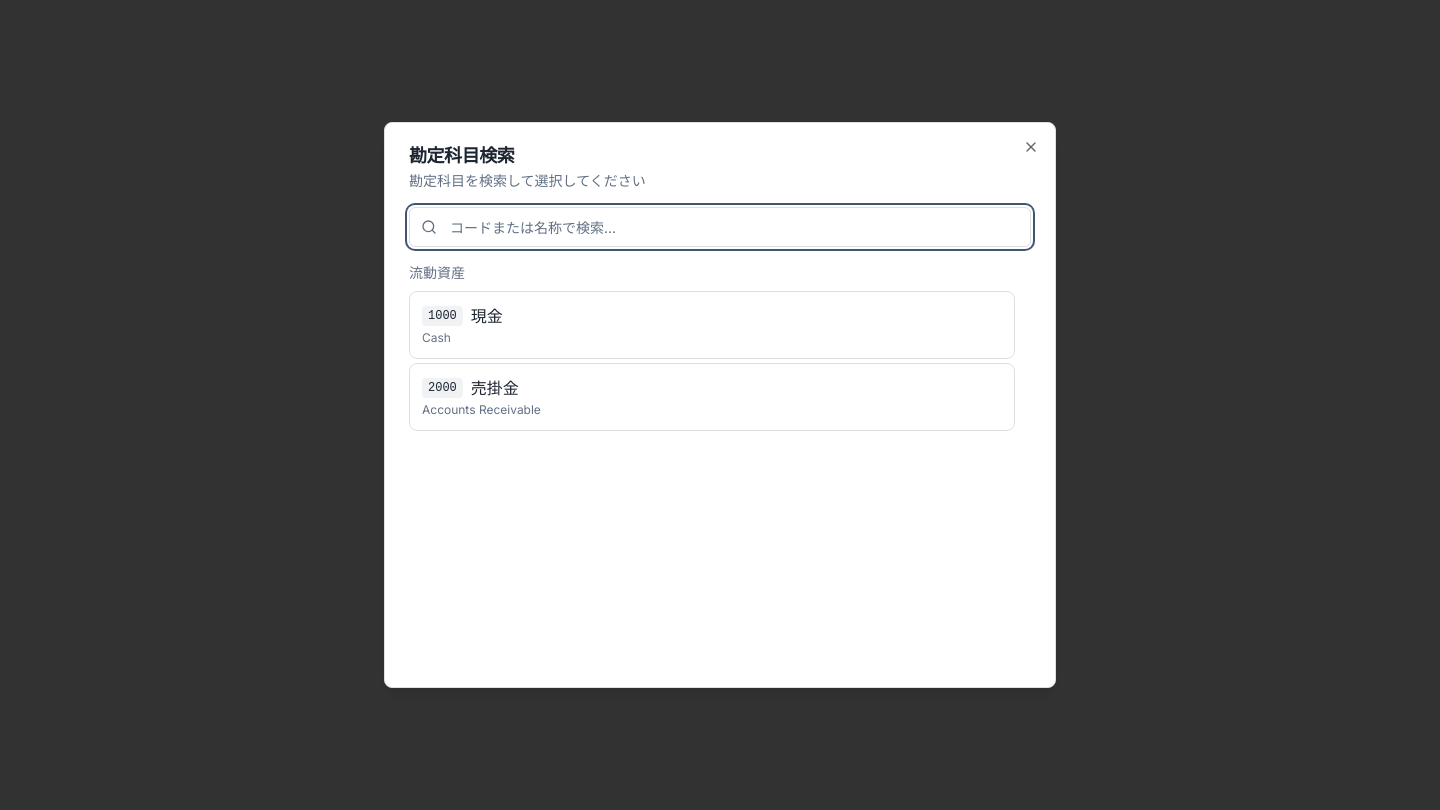
Scenario: conversion/account-search-dialog — search filtering › filters case-insensitively by account code
Type "10" into the field with placeholder "コードまたは名称で検索..." at (720, 227), box [409,207,1031,247]
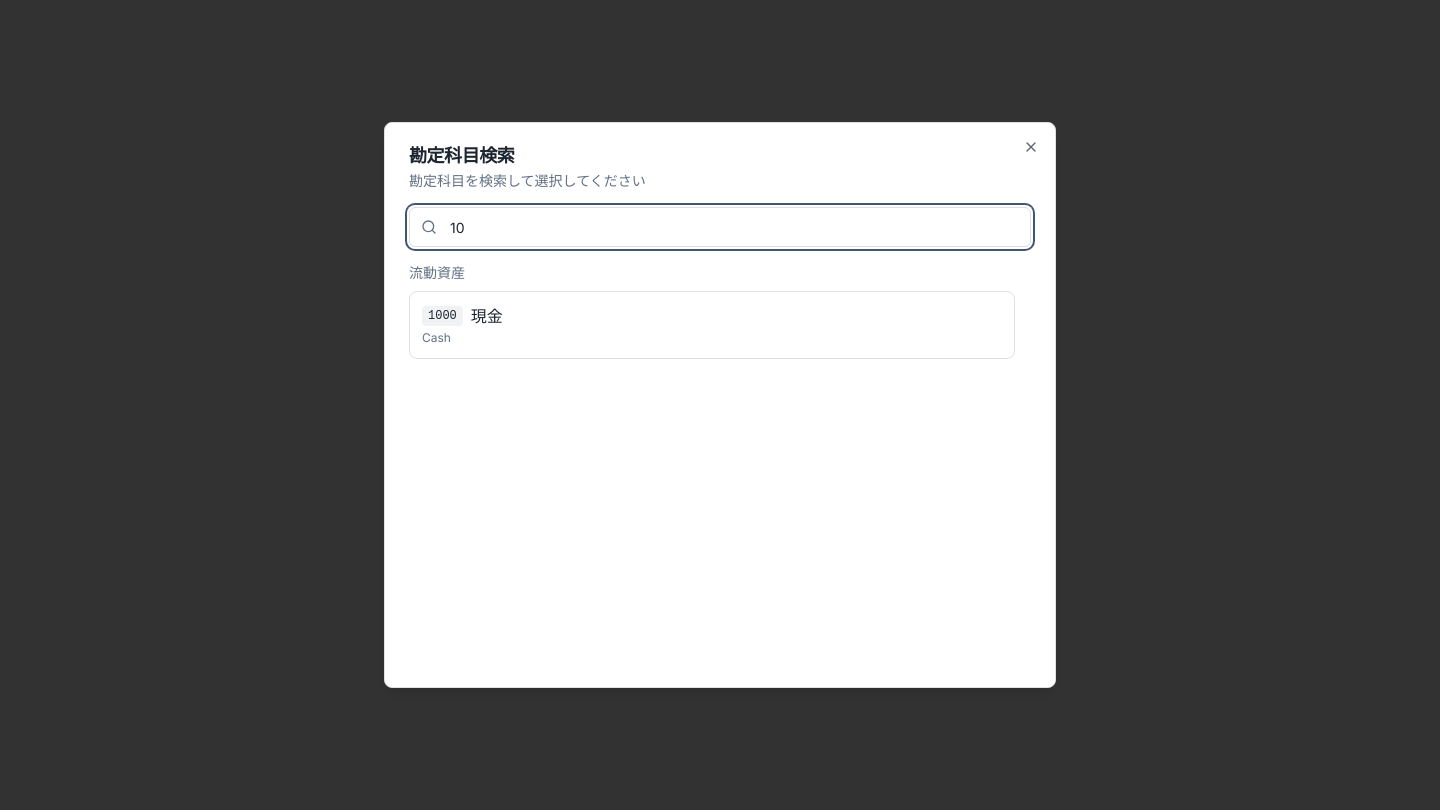
Expected: the text "現金" is shown, [471,304,503,328]
Result: the button "売掛金" is gone
